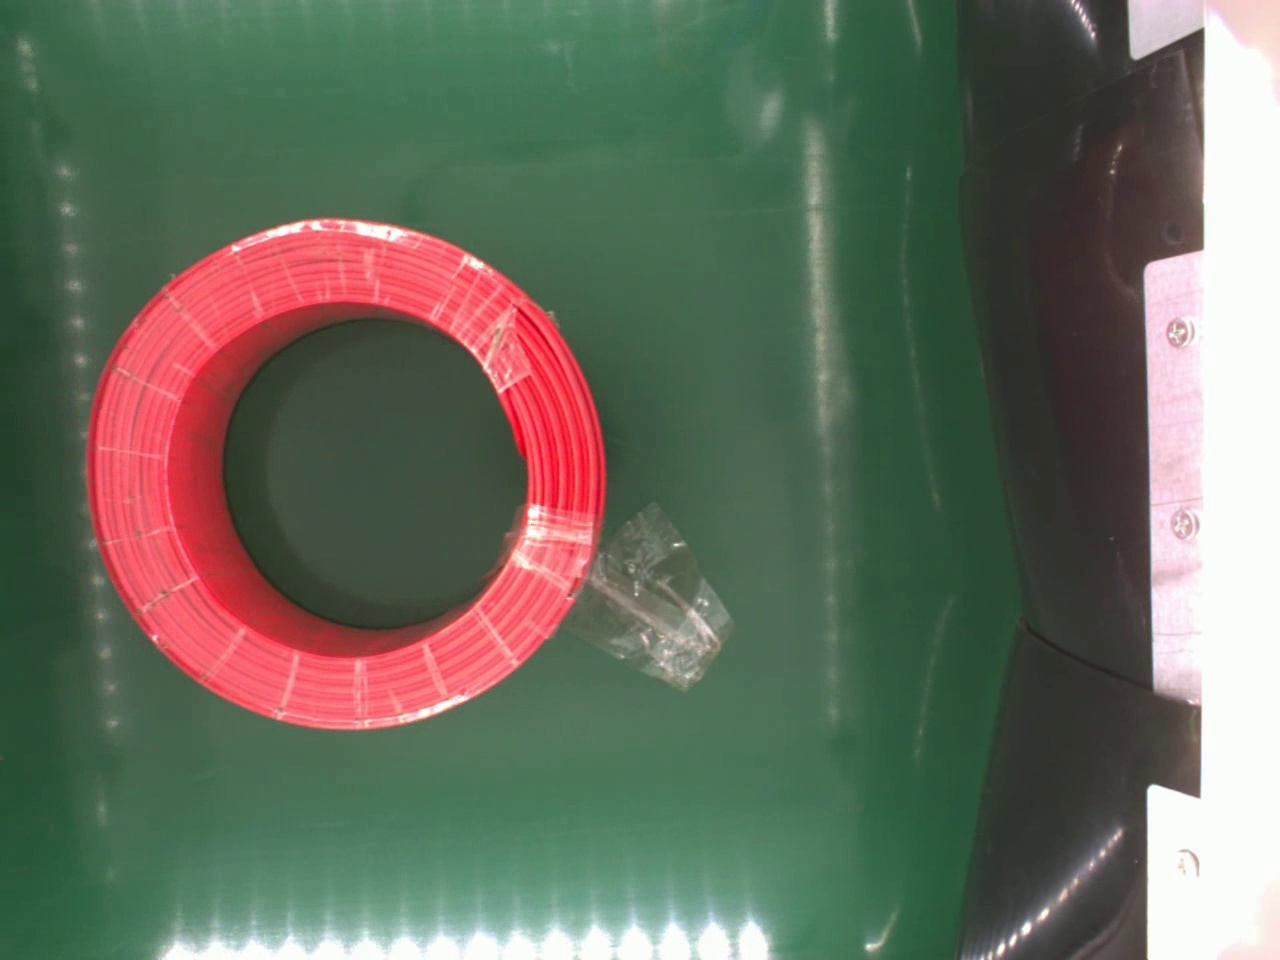red: (85, 214, 608, 725)
